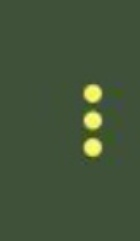ImgButton: (1, 1, 139, 240)
